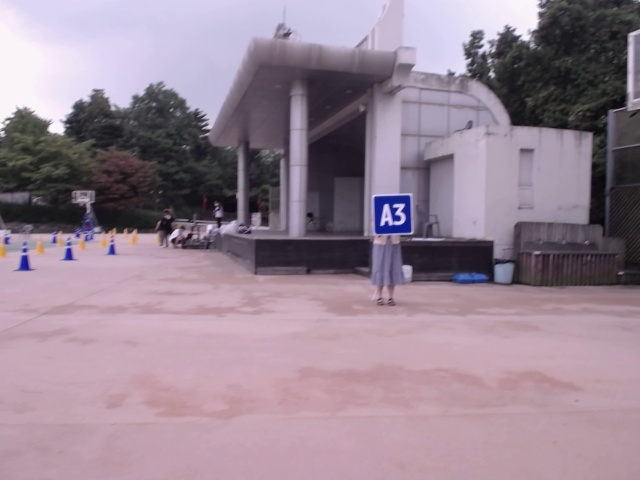delivery_a3: (373, 195, 413, 235)
